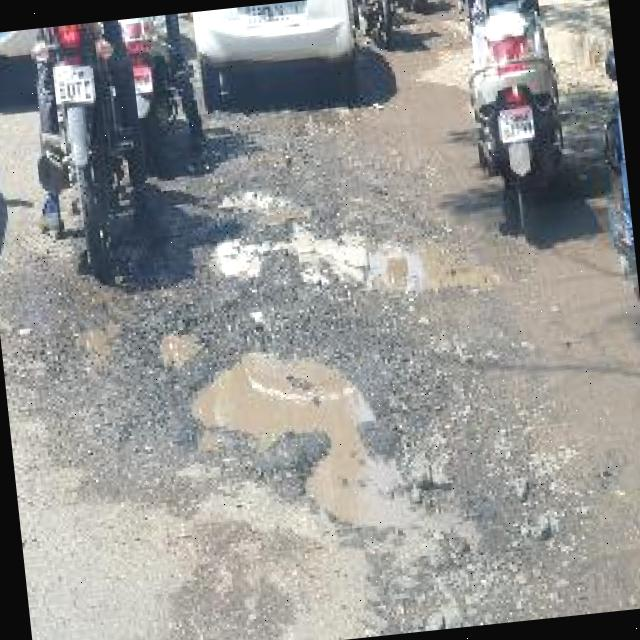waterlogging: (168, 297, 470, 569), (200, 163, 433, 314)
